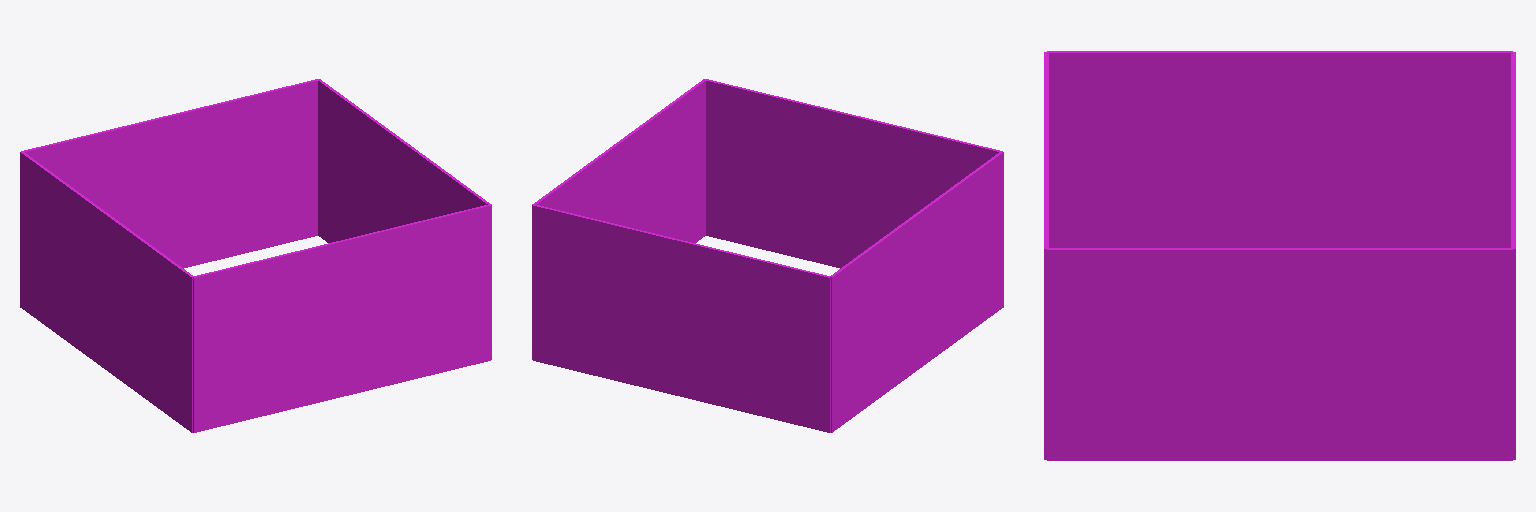
The robot description file, URDF, robot "walls":
<?xml version="1.0"?>
<robot name="walls">
  <material name="wallmat">
    <color rgba="0.9 0.2 0.9 1"/>
  </material>

  <link name="origin">
    <inertial>
      <origin rpy="0 0 0" xyz="0 0 0"/>
      <mass value="0"/>
      <inertia ixx="0" ixy="0" ixz="0" iyy="0" iyz="0" izz="0"/>
    </inertial>
  </link>

  <link name="xpos">
    <inertial>
      <origin rpy="0 0 0" xyz="0 0 0"/>
      <mass value="0"/>
      <inertia ixx="0" ixy="0" ixz="0" iyy="0" iyz="0" izz="0"/>
    </inertial>
    <visual>
      <origin rpy="0 0 0" xyz="0.5 0.0 0.25"/>
      <geometry>
        <box size="0.01 1 0.5"/>
      </geometry>
      <material name="wallmat"/>
    </visual>
    <collision>
      <origin rpy="0 0 0" xyz="0.5 0.0 0.25"/>
      <geometry>
        <box size="0.01 1 0.5"/>
      </geometry>
    </collision>
  </link>

  <link name="xneg">
    <inertial>
      <origin rpy="0 0 0" xyz="0 0 0"/>
      <mass value="0"/>
      <inertia ixx="0" ixy="0" ixz="0" iyy="0" iyz="0" izz="0"/>
    </inertial>
    <visual>
      <origin rpy="0 0 0" xyz="-0.5 0.0 0.25"/>
      <geometry>
        <box size="0.01 1 0.5"/>
      </geometry>
      <material name="wallmat"/>
    </visual>
    <collision>
      <origin rpy="0 0 0" xyz="-0.5 0.0 0.25"/>
      <geometry>
        <box size="0.01 1 0.5"/>
      </geometry>
    </collision>
  </link>

  <link name="ypos">
    <inertial>
      <origin rpy="0 0 0" xyz="0 0 0"/>
      <mass value="0"/>
      <inertia ixx="0" ixy="0" ixz="0" iyy="0" iyz="0" izz="0"/>
    </inertial>
    <visual>
      <origin rpy="0 0 0" xyz="0.0 0.5 0.25"/>
      <geometry>
        <box size="1 0.01 0.5"/>
      </geometry>
      <material name="wallmat"/>
    </visual>
    <collision>
      <origin rpy="0 0 0" xyz="0.0 0.5 0.25"/>
      <geometry>
        <box size="1 0.01 0.5"/>
      </geometry>
    </collision>
  </link>

  <link name="yneg">
    <inertial>
      <origin rpy="0 0 0" xyz="0 0 0"/>
      <mass value="0"/>
      <inertia ixx="0" ixy="0" ixz="0" iyy="0" iyz="0" izz="0"/>
    </inertial>
    <visual>
      <origin rpy="0 0 0" xyz="0.0 -0.5 0.25"/>
      <geometry>
        <box size="1 0.01 0.5"/>
      </geometry>
      <material name="wallmat"/>
    </visual>
    <collision>
      <origin rpy="0 0 0" xyz="0.0 -0.5 0.25"/>
      <geometry>
        <box size="1 0.01 0.5"/>
      </geometry>
    </collision>
  </link>

  <joint name="xpos_j" type="fixed">
    <parent link="origin"/>
    <child link="xpos"/>
  </joint>

  <joint name="xneg_j" type="fixed">
    <parent link="origin"/>
    <child link="xneg"/>
  </joint>

  <joint name="ypos_j" type="fixed">
    <parent link="origin"/>
    <child link="ypos"/>
  </joint>

  <joint name="yneg_j" type="fixed">
    <parent link="origin"/>
    <child link="yneg"/>
  </joint>
  
</robot>

--- Facts derived from the render (not from the file) ---
3 views of the same robot in one strip: view 1: azimuth 30°, elevation 25°; view 2: azimuth 150°, elevation 25°; view 3: azimuth 270°, elevation 25° (orthographic).
Robot: walls — 5 links, 4 joints (4 fixed); root link origin; default pose: every joint at zero.
Links seen in each view (by area): view 1: yneg, ypos, xneg, xpos; view 2: ypos, yneg, xneg, xpos; view 3: xpos, xneg, ypos, yneg.
Boxes of the visible links, x1=… form: yneg: x1=193, y1=205, x2=490, y2=432; ypos: x1=21, y1=79, x2=318, y2=268; xneg: x1=20, y1=152, x2=192, y2=432; xpos: x1=318, y1=79, x2=491, y2=359; ypos: x1=533, y1=205, x2=830, y2=432; yneg: x1=705, y1=79, x2=1002, y2=268; xneg: x1=830, y1=152, x2=1003, y2=432; xpos: x1=532, y1=79, x2=705, y2=359; xpos: x1=1047, y1=248, x2=1512, y2=460; xneg: x1=1047, y1=51, x2=1512, y2=247; ypos: x1=1511, y1=52, x2=1515, y2=459; yneg: x1=1044, y1=52, x2=1048, y2=459.
Size in the robot's own frame: 1.01 by 1.01 by 0.5 metres.
Geometry: primitives only (box / cylinder / sphere), no mesh files.